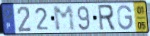2: (16, 5, 34, 33), (34, 7, 50, 31)
9: (75, 6, 92, 32)
G: (116, 4, 134, 32)
M: (52, 5, 78, 33)
R: (97, 3, 117, 32)
